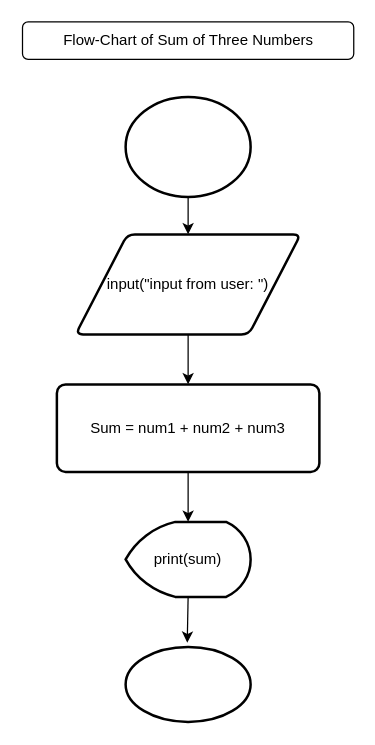
Image size: 375x745. Some labels were removed from this diagram. The shapes that lost their labels are listed below. From the top down, each one's centre as x and y in pixels, then its label:
At point 187,146: "Start".
At point 187,683: "End".
